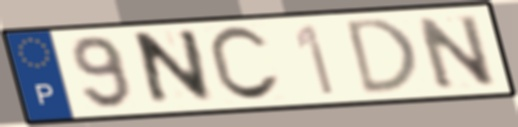1: (292, 21, 338, 98)
9: (69, 34, 137, 111)
C: (205, 24, 285, 105)
D: (344, 16, 423, 98)
N: (412, 12, 500, 92), (135, 26, 217, 111)
